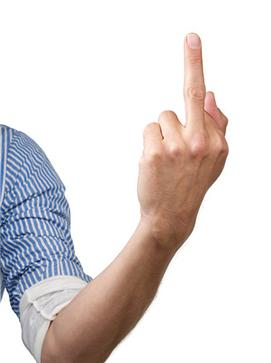insulting_gesture: (135, 30, 234, 243)
